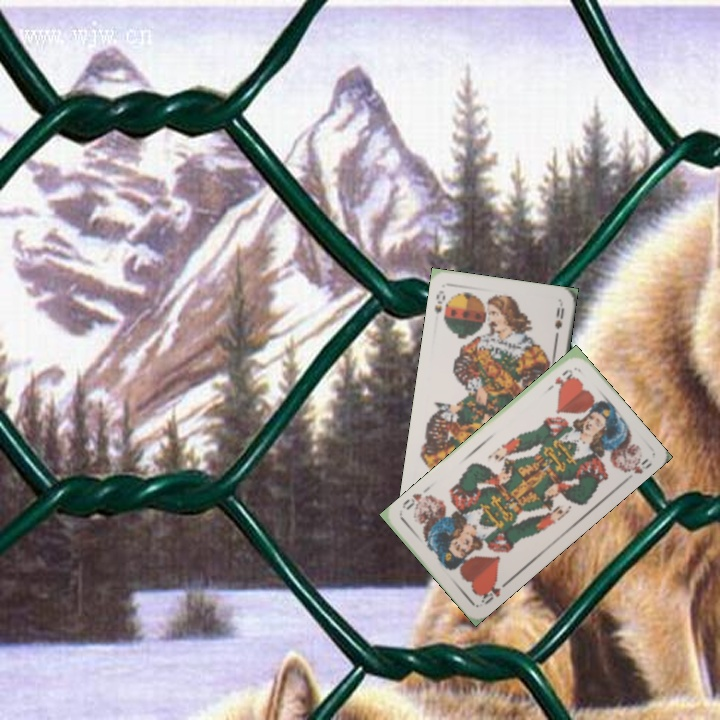HO: (476, 577, 510, 607), (542, 365, 576, 395)
SO: (430, 286, 448, 317)
